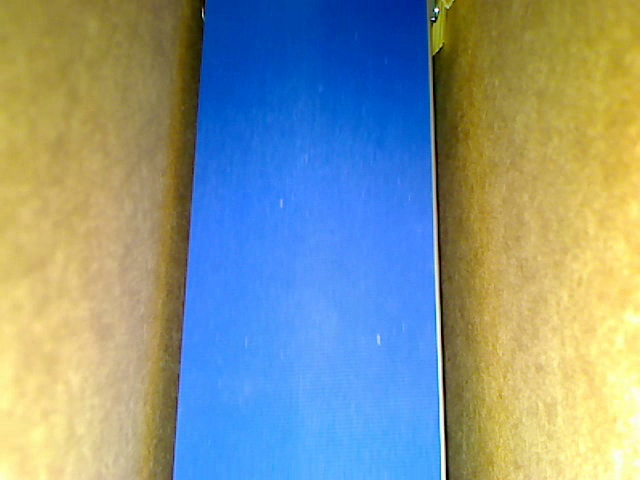penne: (427, 1, 448, 60), (438, 1, 460, 11)
